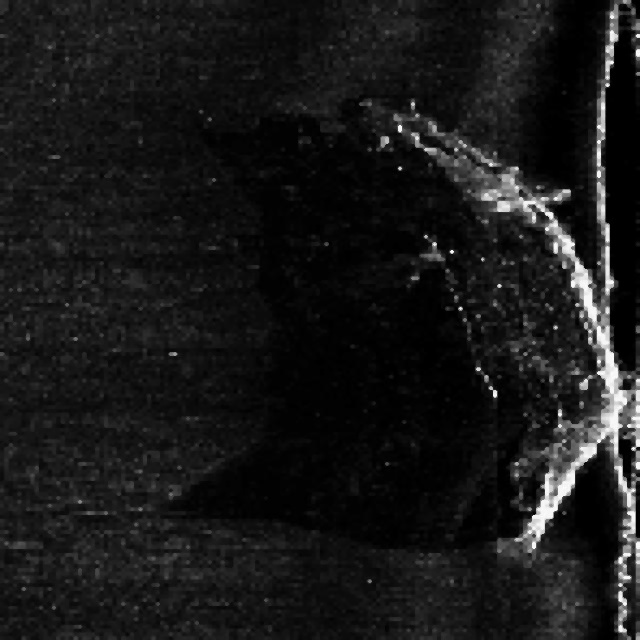Ship: (331, 70, 640, 585)
